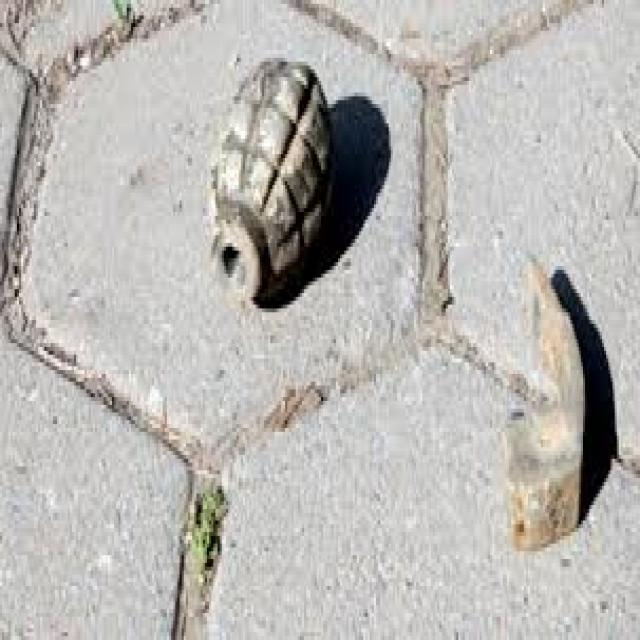grenade: (210, 49, 338, 313)
